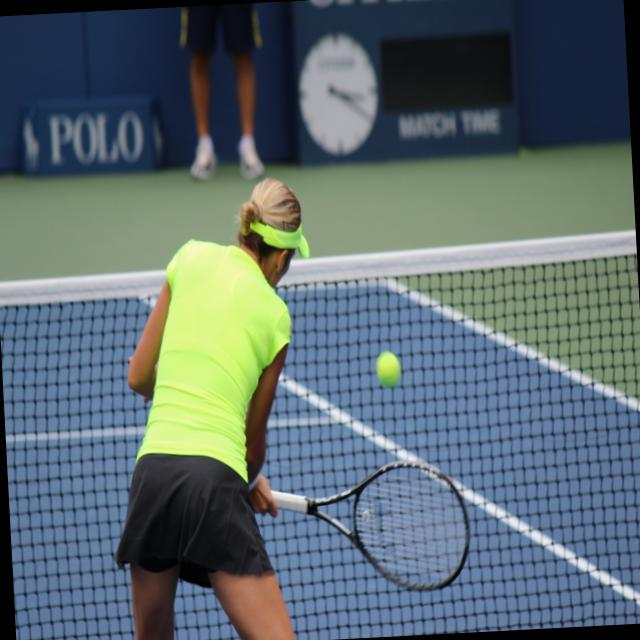Tennis Ball: (376, 350, 401, 388)
